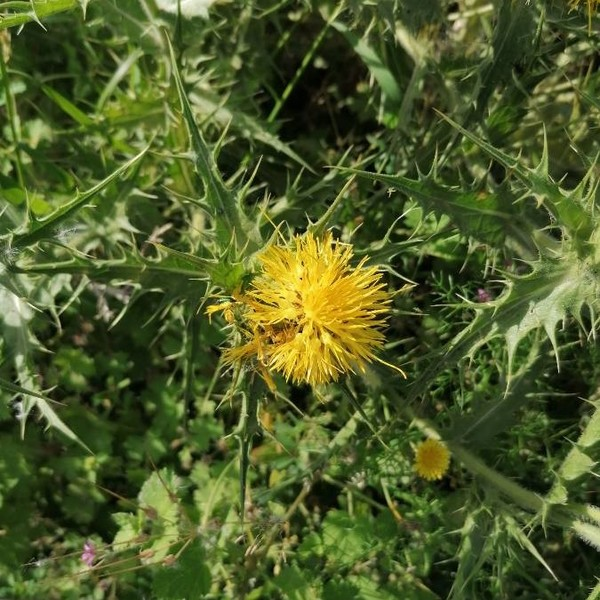obstacle: (94, 101, 506, 535)
